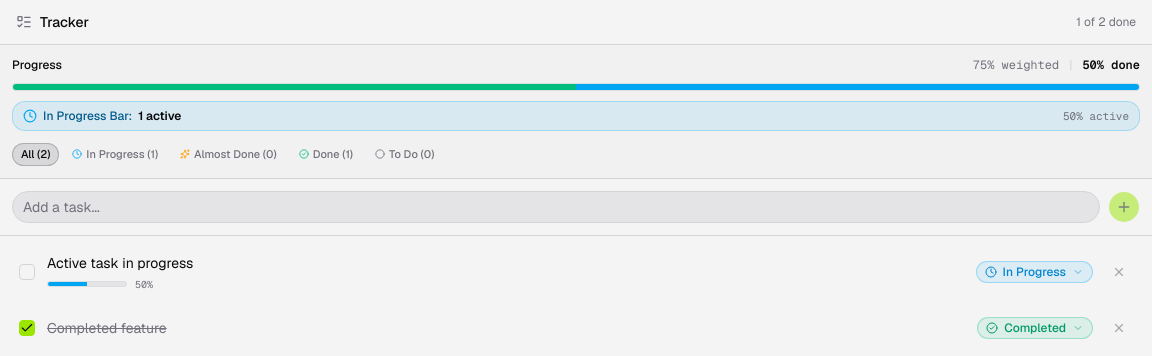
Test: TrackerPanel › filters tasks when clicking status filter buttons
Expected: the text "Active task in progress" is shown, [47,254,193,272]
Expected: the text "Completed feature" is shown, [47,318,167,336]
Click the button "In Progress (1)".
click(115, 154)  # box [63,143,167,166]
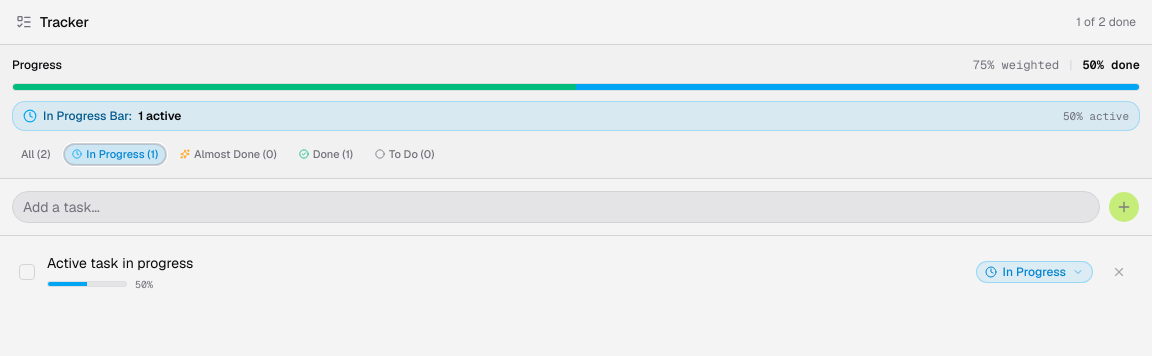
Expected: the text "Active task in progress" is shown, [47,254,193,272]
Expected: the text "Completed feature" is gone
Click the button "All (2)".
click(36, 154)  # box [12,143,59,166]
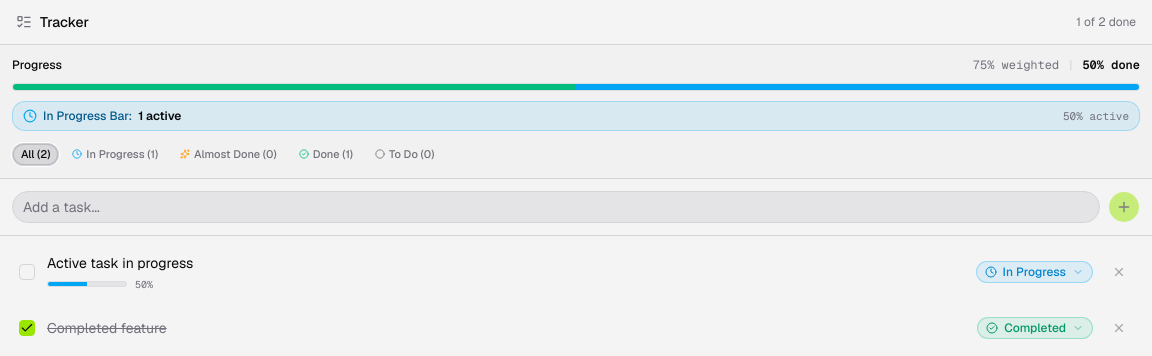
Expected: the text "Completed feature" is shown, [47,318,167,336]
